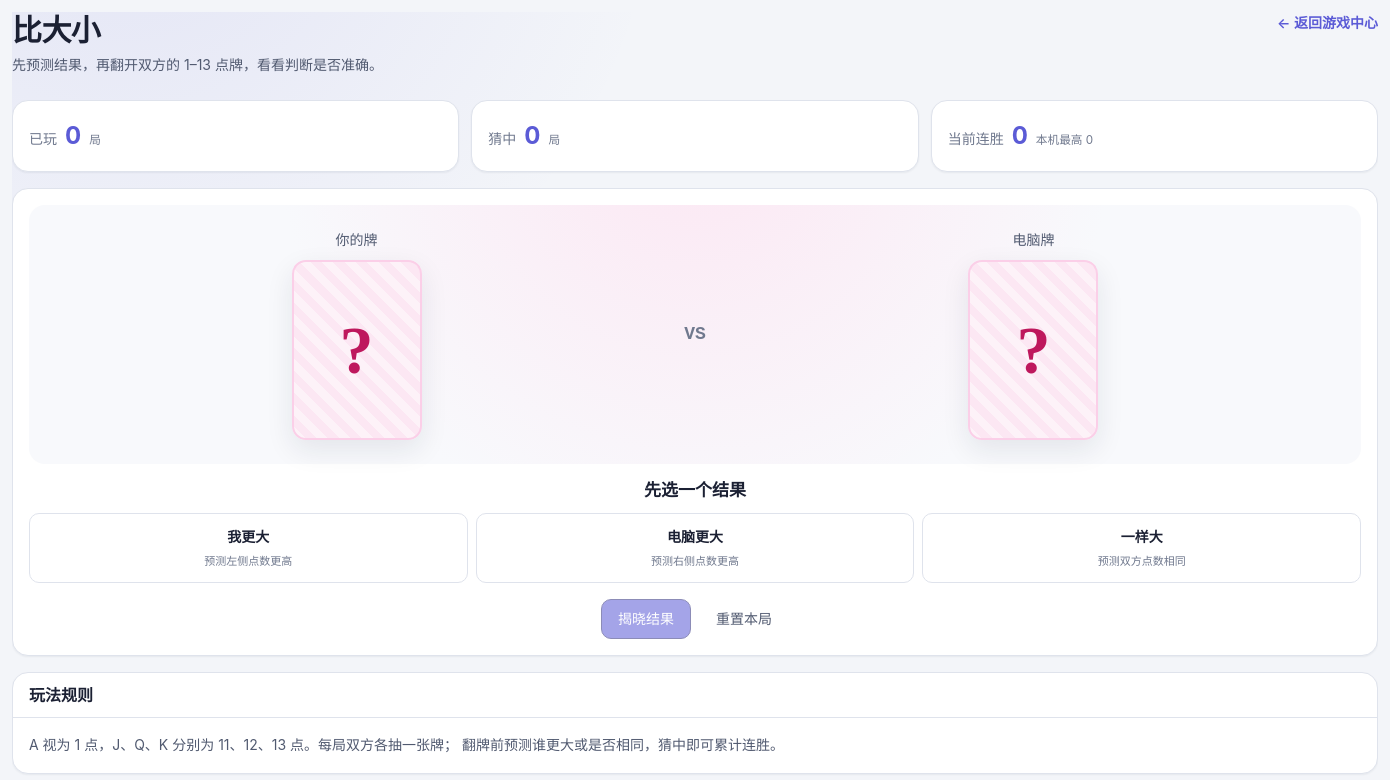
HighLowGamePage › allows a prediction, reveals both cards, and starts another round
The image size is (1390, 780).
Click the button "我更大 预测左侧点数更高" at (248, 537), box [29,514,468,584]
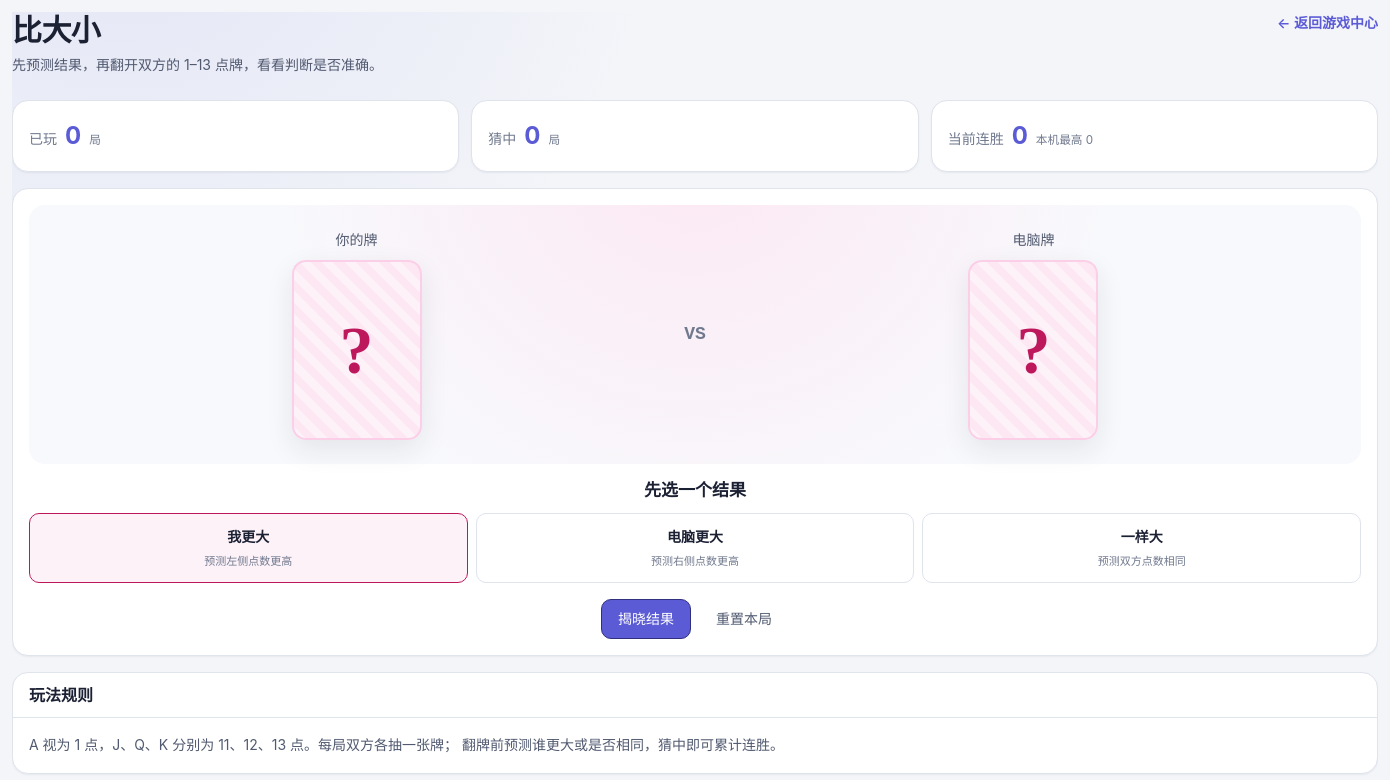
Click the button "揭晓结果" at (646, 620), box [601,600,691,640]
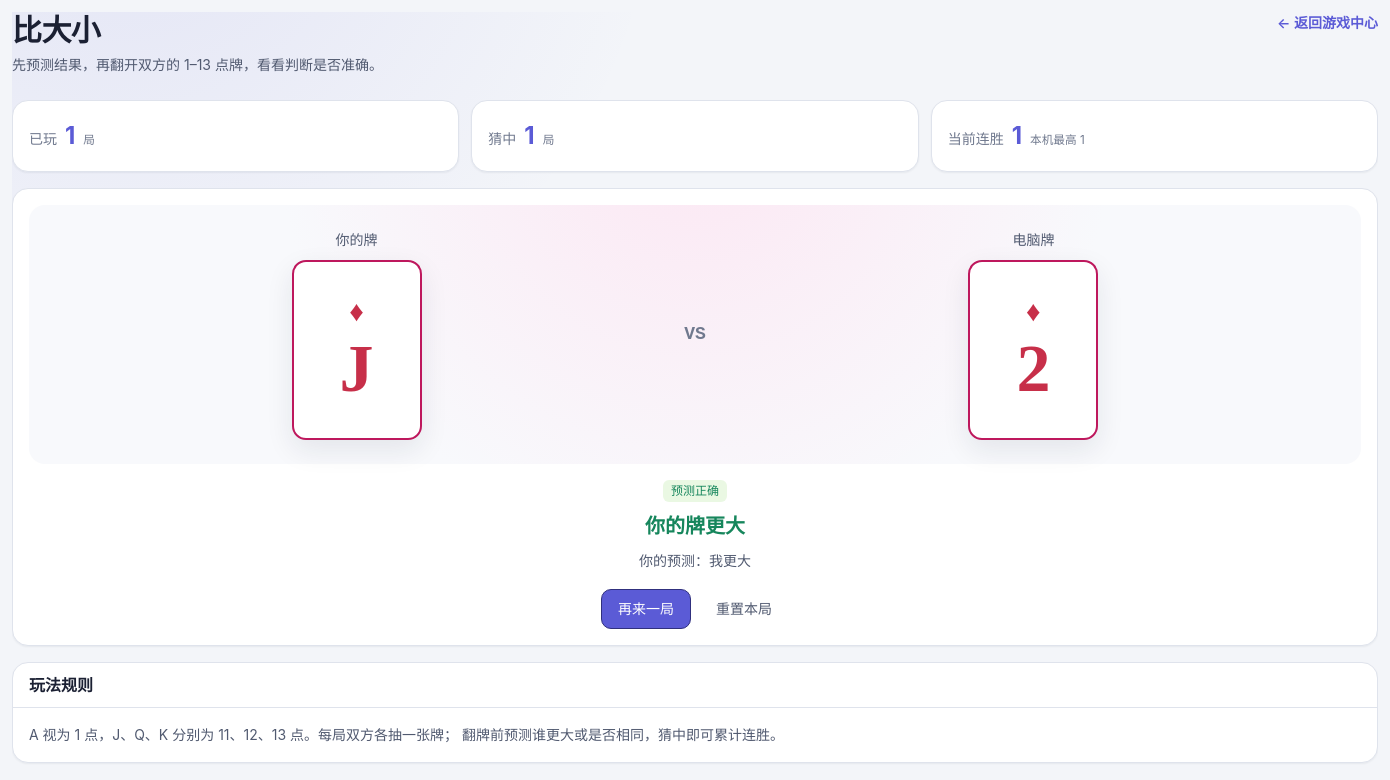
Expected: the message shows "预测正确", [671,483,719,498]
Expected: the message shows "你的牌更大", [645,514,745,538]
Expected: the text "J" is shown, [340,330,374,406]
Click the button "再来一局" at (646, 609), box [601,589,691,629]
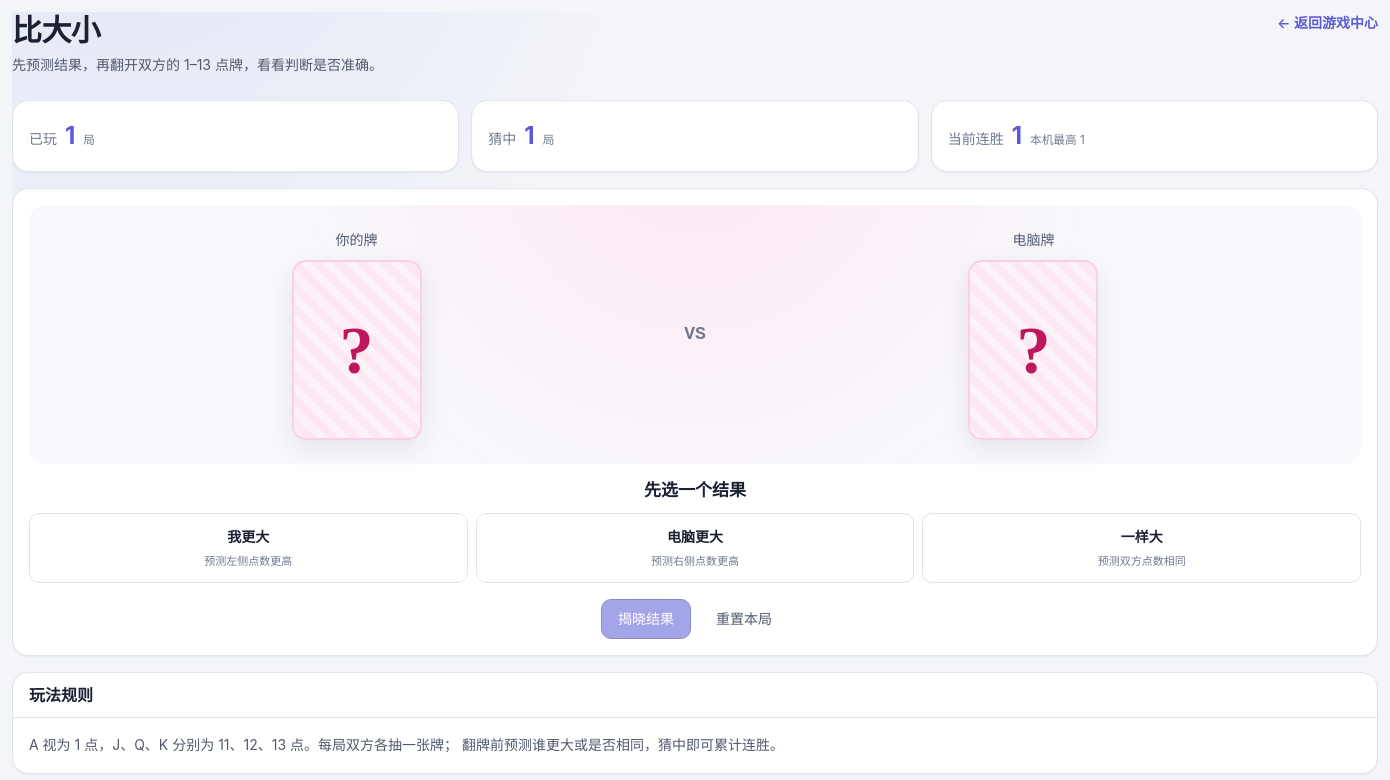
Expected: the button "揭晓结果" is disabled, [601,600,691,640]
